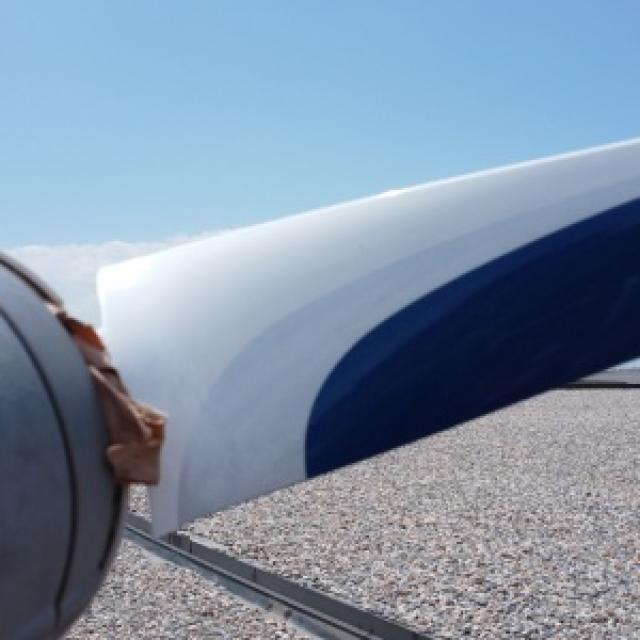healthy: (0, 260, 119, 638)
